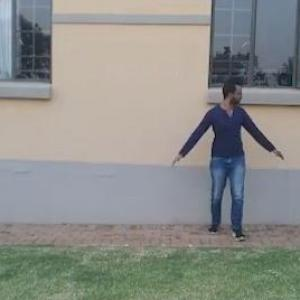land: (168, 70, 274, 248)
